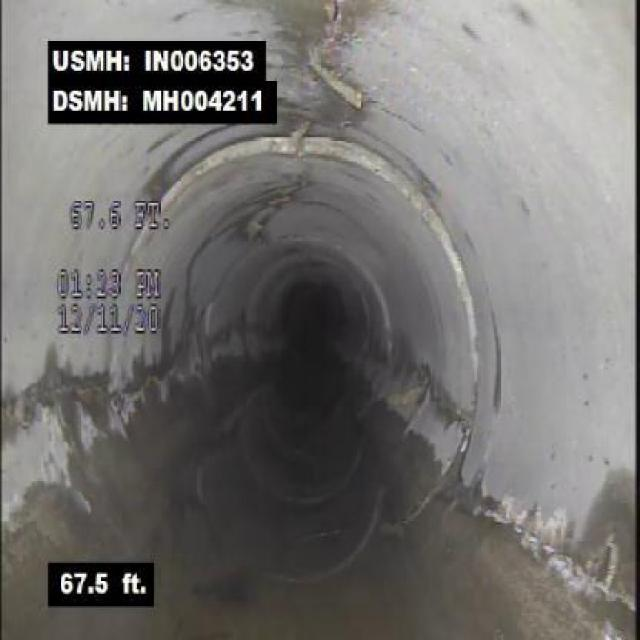Buckling: (302, 2, 369, 129)
Crack: (477, 468, 618, 600), (3, 376, 105, 422)
Joint offset: (303, 132, 417, 192), (178, 136, 291, 187)
